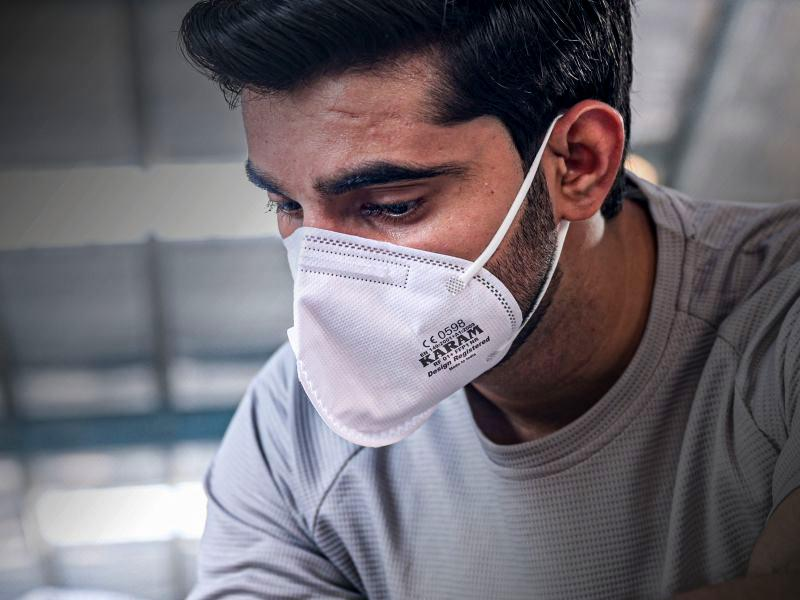mask: (272, 212, 525, 443)
